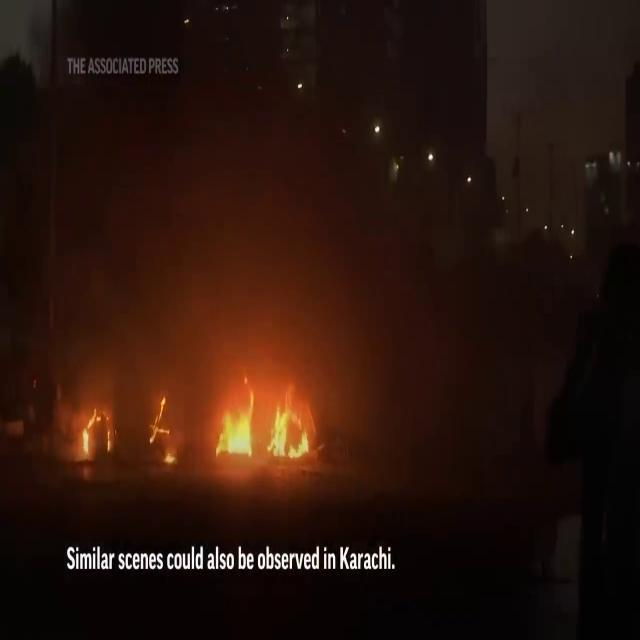Fire: (212, 366, 314, 473), (76, 399, 114, 461)
Smoke: (54, 39, 392, 400)
